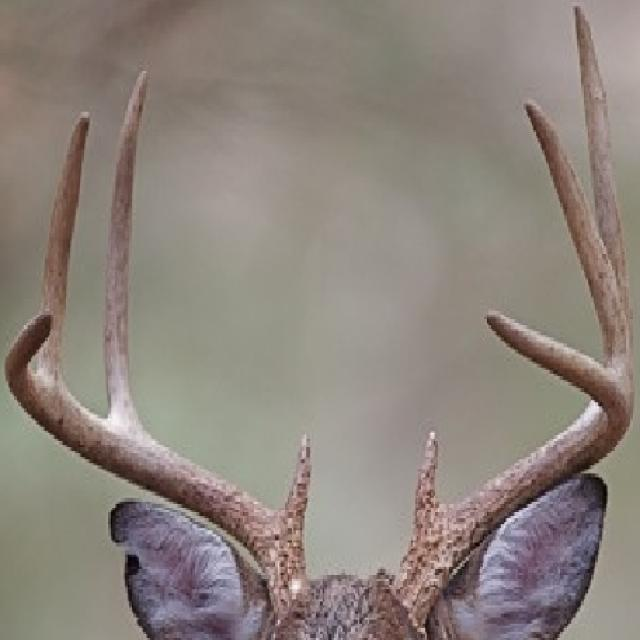L-F: (398, 311, 631, 631)
L-G1: (414, 426, 439, 530)
L-G3: (525, 101, 630, 357)
R-F: (5, 311, 306, 638)
R-G1: (283, 432, 312, 528)
R-G2: (104, 71, 148, 428)
